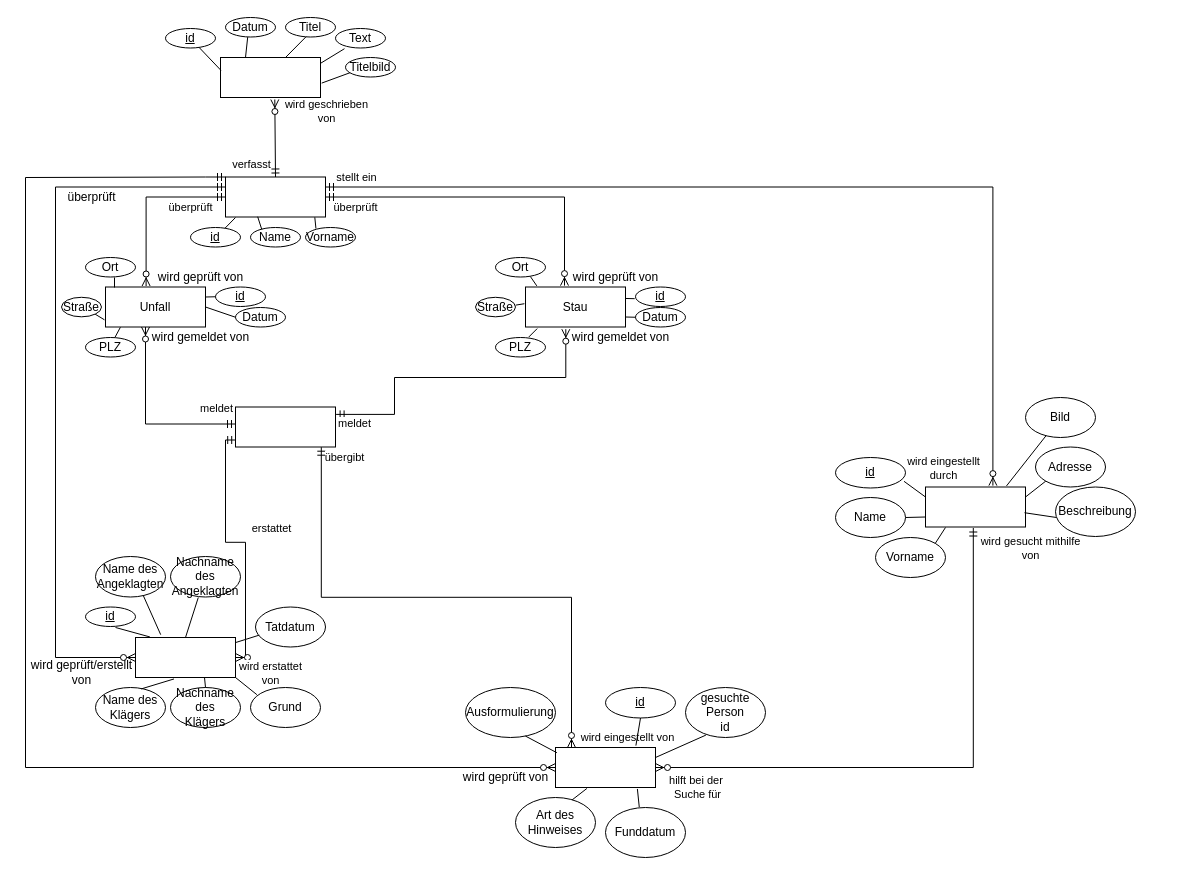
The diagram is 1193 pixels wide and 875 high, and some of its shapes have lost their labels. Here are the shapes that lost their labels. From the top down, the box of each, then its label:
(220, 56, 320, 98): Neuigkeit
(224, 176, 326, 217): Polizist
(234, 406, 336, 447): Benutzer
(924, 486, 1026, 527): gesuchte Person
(134, 636, 236, 678): Anzeige
(554, 746, 656, 788): Information zu gesuchter Person
